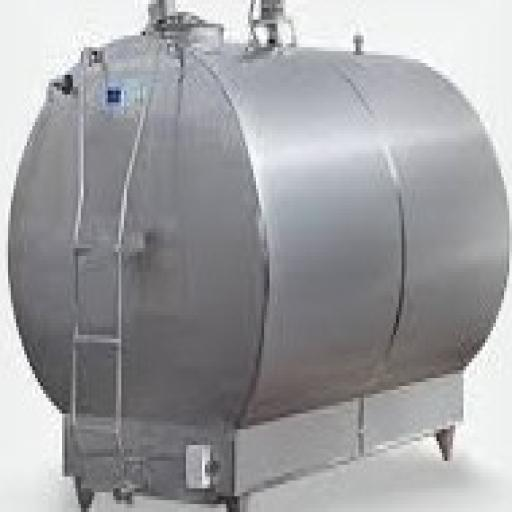silo: (8, 21, 509, 494)
